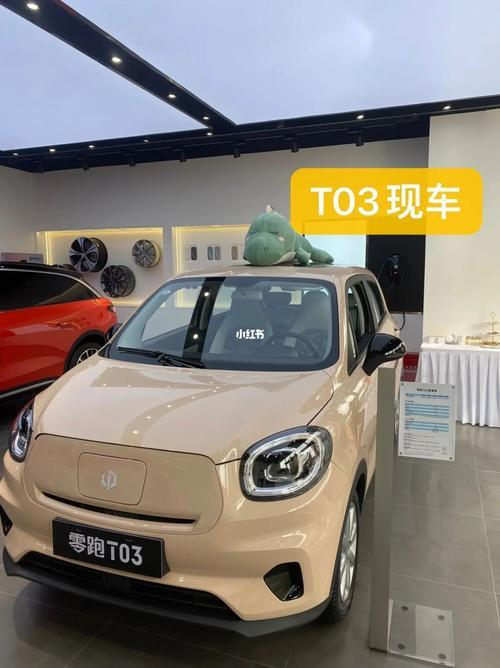LEAPMOTOR: (101, 469, 119, 492)
